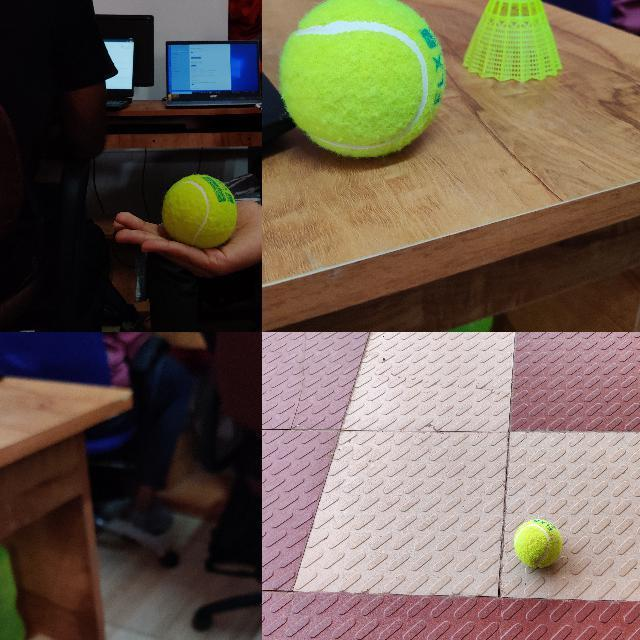tennis-ball: (279, 0, 445, 157), (162, 175, 235, 247), (513, 519, 561, 567)
